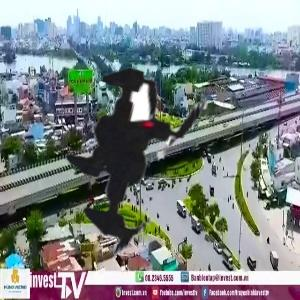drone: (2, 22, 279, 299)
